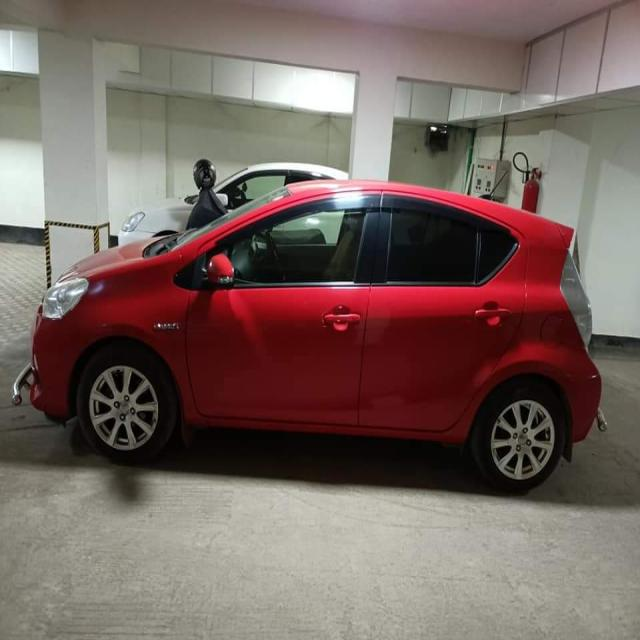red: (37, 174, 640, 497)
